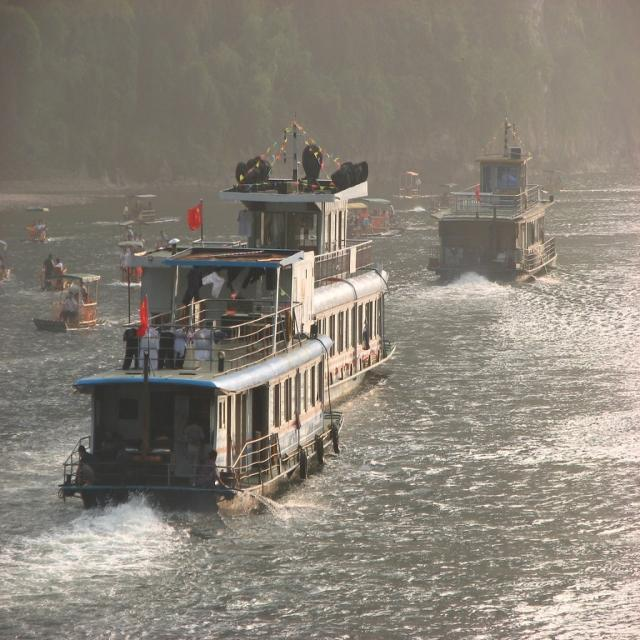boat: (58, 328, 260, 525), (431, 143, 565, 282), (30, 274, 111, 342), (20, 206, 50, 244), (124, 195, 159, 226)
